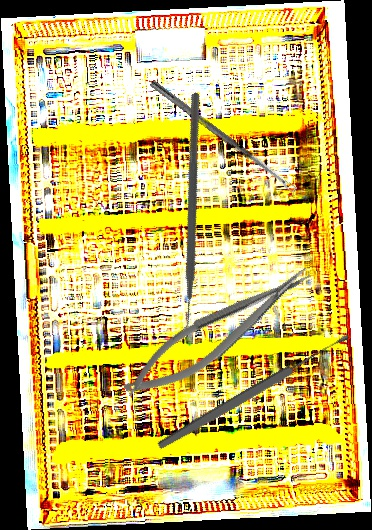Chopper: (70, 91, 299, 341)
Needle Holder: (113, 257, 324, 410)
Surgical Spoon: (154, 330, 354, 453), (148, 79, 298, 195)
